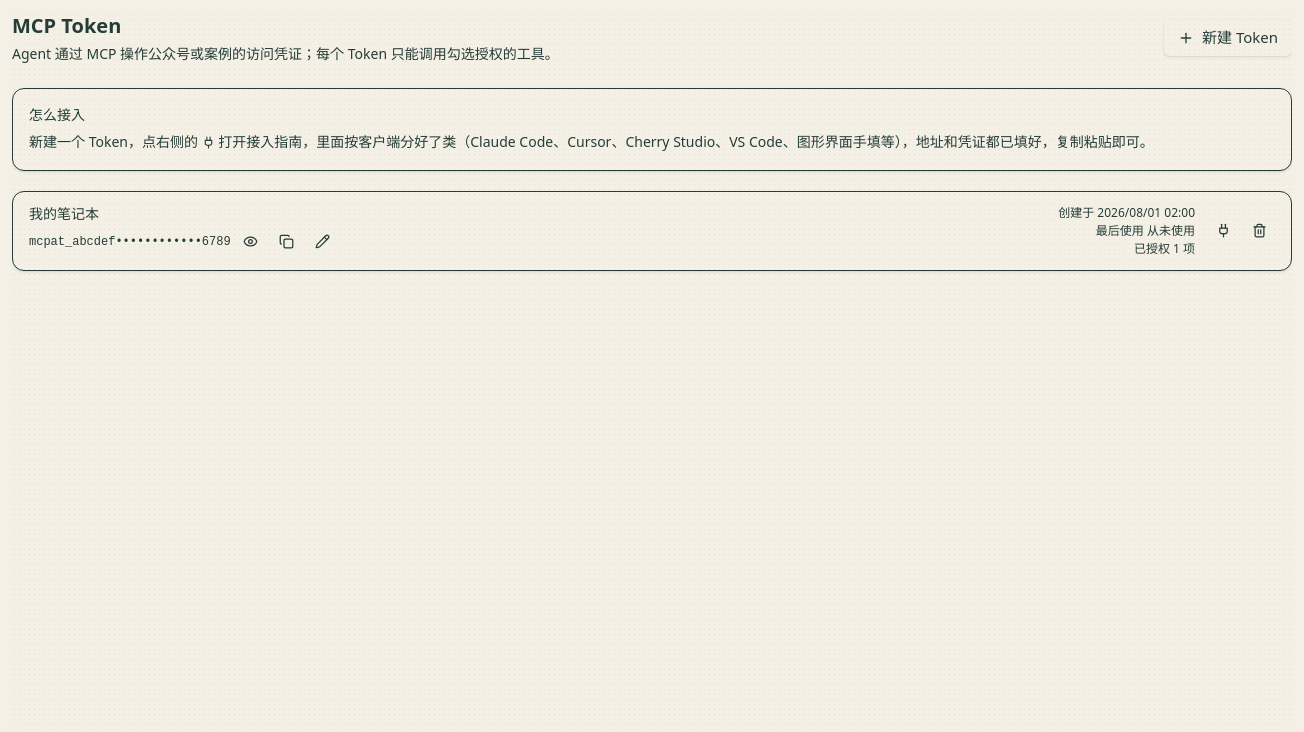
Test: 点击显示后展开完整 token
The width and height of the screenshot is (1304, 732).
Expected: the text "我的笔记本" is shown, [29,204,99,223]
Click the button named "显示 Token".
click(251, 242)  # box [235,226,267,258]
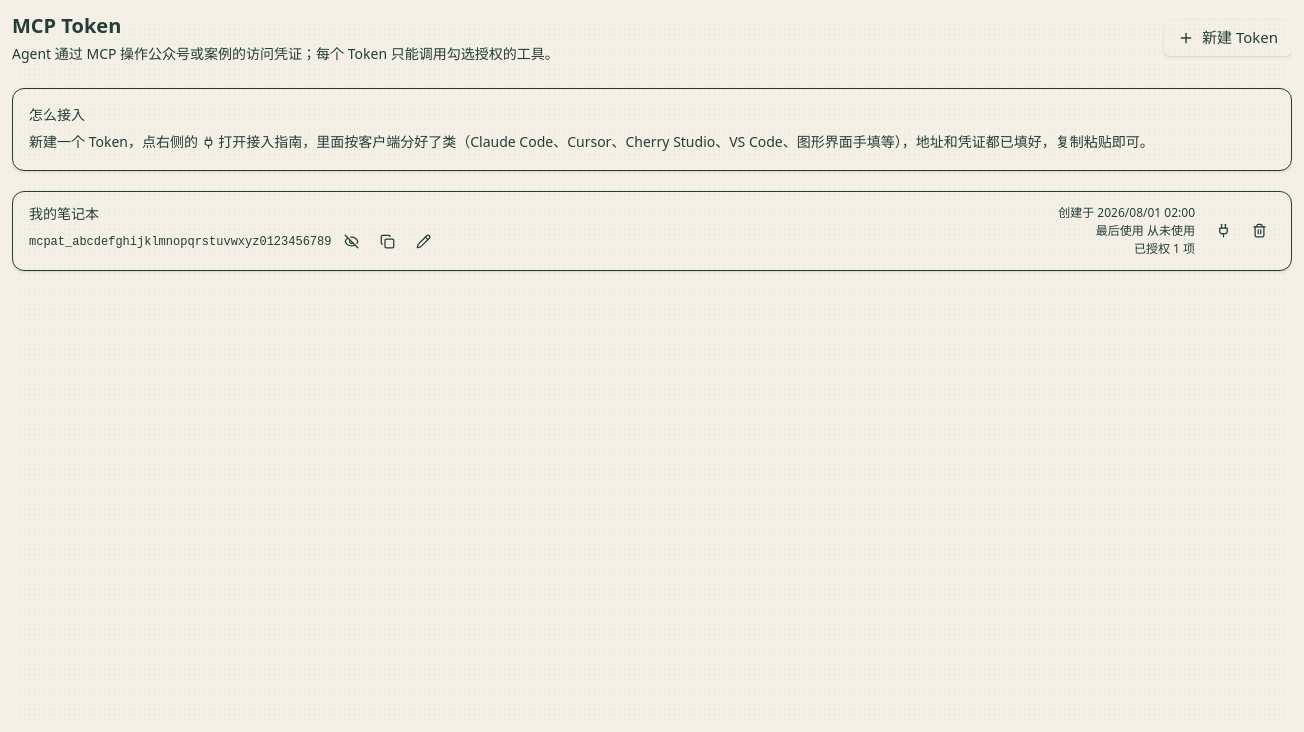
Result: the text "mcpat_abcdefghijklmnopqrstuvwxyz0123456789" is shown at [29,234,332,250]
